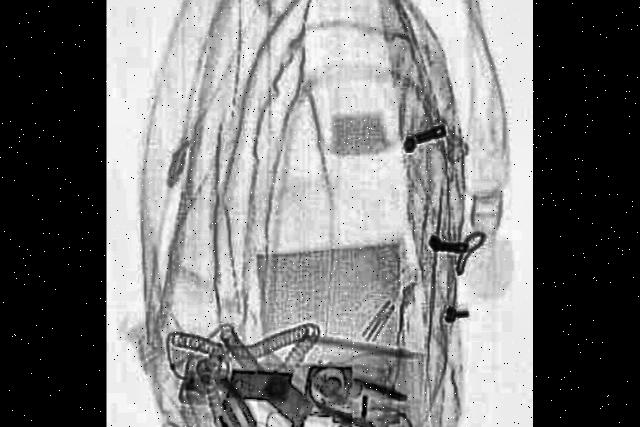Pliers: (219, 386, 298, 427)
